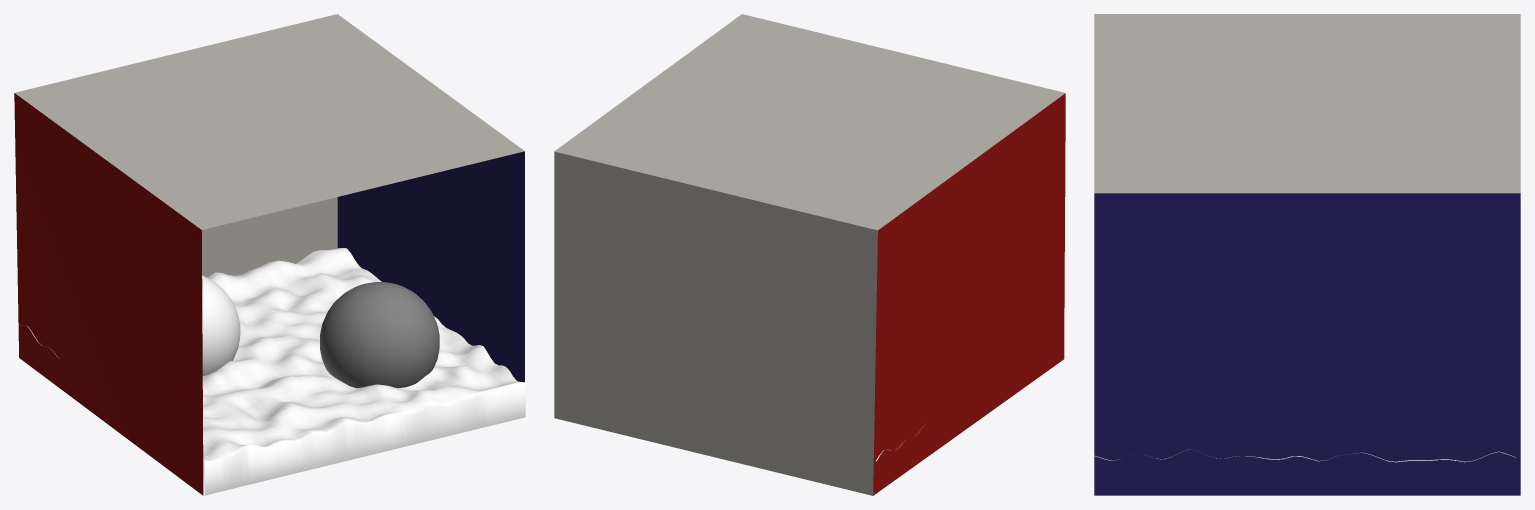
The model's file is cornellbox-water.obj.
3 views of the same model, side by side, from view 1: azimuth 30°, elevation 25°; view 2: azimuth 150°, elevation 25°; view 3: azimuth 270°, elevation 25° (orthographic). The views are drawn at different scales.
Visible parts, largest first — view 1: ceiling, leftWall, water, rightWall, rightSphere, backWall, leftSphere; view 2: backWall, ceiling, leftWall; view 3: rightWall, ceiling.
Part boxes in pixels (bbox=[...]): ceiling: bbox=[14, 14, 524, 229]; leftWall: bbox=[14, 93, 203, 495]; water: bbox=[20, 248, 525, 495]; rightWall: bbox=[337, 151, 524, 382]; rightSphere: bbox=[320, 282, 439, 388]; backWall: bbox=[202, 197, 337, 277]; leftSphere: bbox=[202, 275, 240, 376]; backWall: bbox=[554, 151, 877, 495]; ceiling: bbox=[554, 14, 1065, 230]; leftWall: bbox=[873, 93, 1065, 495]; rightWall: bbox=[1094, 193, 1520, 495]; ceiling: bbox=[1094, 14, 1520, 193].
Size of the model in its own units: 2.02 by 1.59 by 2.03.
